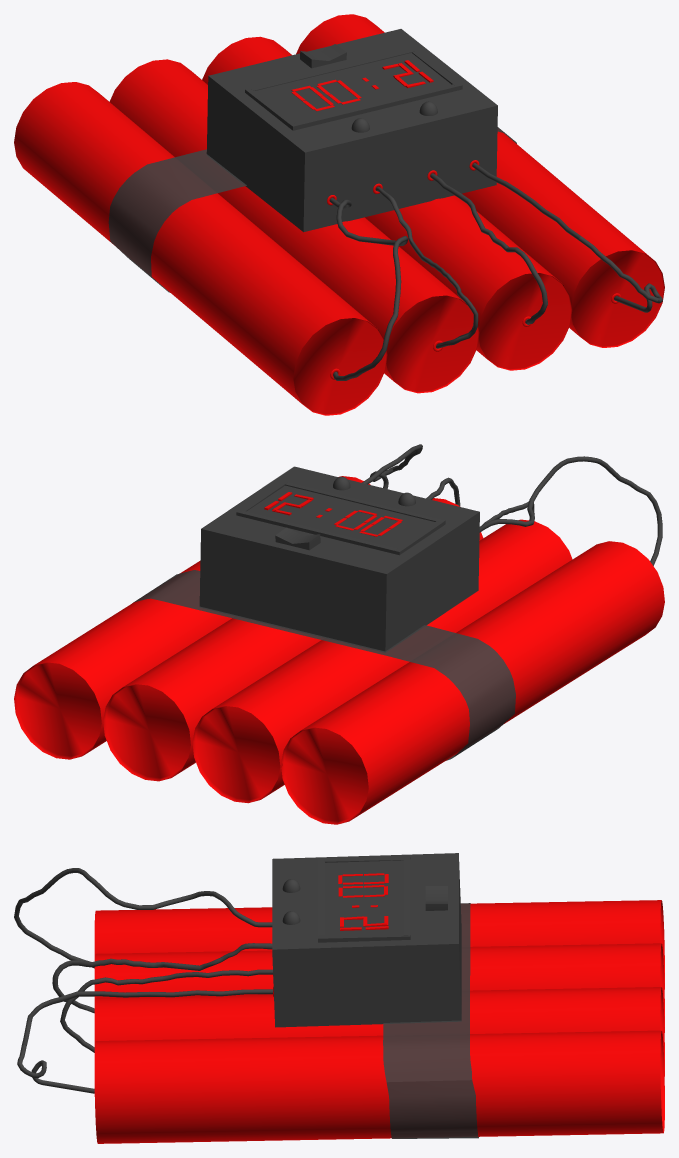
The model's file is bomb.obj.
3 views of the same model, one above another, from view 1: azimuth 30°, elevation 25°; view 2: azimuth 150°, elevation 25°; view 3: azimuth 270°, elevation 25° (orthographic). The views are drawn at different scales.
Visible parts, largest first — view 1: pCylinder9_Untitled.025, pCube1_Untitled.039, pCylinder8_Untitled.013, pCylinder1_Untitled.029, pCylinder7_Untitled.017, Skotch_Untitled.035, pCube2_Untitled.037, Provodulik.001_Untitled.004, Provodulik_2_Untitled.044, pCube4_Untitled.012, Provodulik_Untitled.027, pCylinder6_Untitled.021 (+2 smaller); view 2: pCylinder9_Untitled.025, pCube1_Untitled.039, pCylinder8_Untitled.013, pCylinder1_Untitled.029, pCylinder7_Untitled.017, Skotch_Untitled.035, pCube2_Untitled.037, Provodulik_2_Untitled.044, pCube3_Untitled.005, pCube4_Untitled.012, Provodulik.001_Untitled.004, Knopka_Untitled.036; view 3: pCylinder1_Untitled.029, pCube1_Untitled.039, pCylinder7_Untitled.017, pCylinder9_Untitled.025, pCylinder8_Untitled.013, Skotch_Untitled.035, pCube2_Untitled.037, Provodulik.001_Untitled.004, Provodulik_2_Untitled.044, pCylinder6_Untitled.021, Provodulik_Untitled.027, pCube6_Untitled.024 (+3 smaller).
Boxes of the visible parts, <box> form: pCylinder9_Untitled.025: <box>14,82,387,415</box>; pCube1_Untitled.039: <box>206,29,497,232</box>; pCylinder8_Untitled.013: <box>109,59,479,393</box>; pCylinder1_Untitled.029: <box>296,14,664,347</box>; pCylinder7_Untitled.017: <box>202,36,572,370</box>; Skotch_Untitled.035: <box>108,127,516,292</box>; pCube2_Untitled.037: <box>255,53,450,122</box>; Provodulik.001_Untitled.004: <box>472,163,662,312</box>; Provodulik_2_Untitled.044: <box>329,197,408,380</box>; pCube4_Untitled.012: <box>289,84,459,130</box>; Provodulik_Untitled.027: <box>430,173,547,324</box>; pCylinder6_Untitled.021: <box>375,186,478,348</box>; pCylinder9_Untitled.025: <box>281,541,664,824</box>; pCube1_Untitled.039: <box>199,466,479,651</box>; pCylinder8_Untitled.013: <box>192,519,572,803</box>; pCylinder1_Untitled.029: <box>14,476,370,759</box>; pCylinder7_Untitled.017: <box>103,498,483,781</box>; Skotch_Untitled.035: <box>133,570,515,760</box>; pCube2_Untitled.037: <box>247,485,434,547</box>; Provodulik_2_Untitled.044: <box>479,456,662,565</box>; pCube3_Untitled.005: <box>239,510,397,553</box>; pCube4_Untitled.012: <box>285,482,445,525</box>; Provodulik.001_Untitled.004: <box>362,444,422,488</box>; Knopka_Untitled.036: <box>275,527,320,550</box>; pCylinder1_Untitled.029: <box>94,1030,664,1143</box>; pCube1_Untitled.039: <box>272,853,461,1027</box>; pCylinder7_Untitled.017: <box>94,987,664,1076</box>; pCylinder9_Untitled.025: <box>94,900,664,989</box>; pCylinder8_Untitled.013: <box>94,943,664,1032</box>; Skotch_Untitled.035: <box>383,903,478,1138</box>; pCube2_Untitled.037: <box>325,860,403,935</box>; Provodulik.001_Untitled.004: <box>17,989,272,1093</box>; Provodulik_2_Untitled.044: <box>14,868,272,968</box>; pCylinder6_Untitled.021: <box>52,943,272,1013</box>; Provodulik_Untitled.027: <box>60,969,272,1052</box>; pCube6_Untitled.024: <box>318,934,410,942</box>.
Size of the model in its own units: 0.1707 by 0.0834 by 0.2596.
